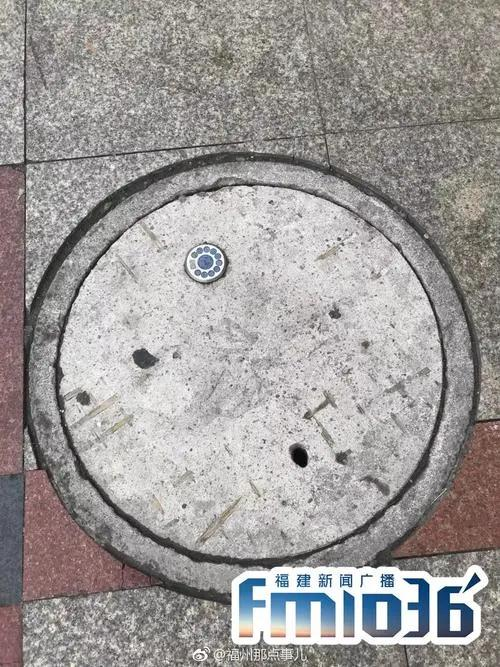wellcover: (28, 160, 484, 591)
